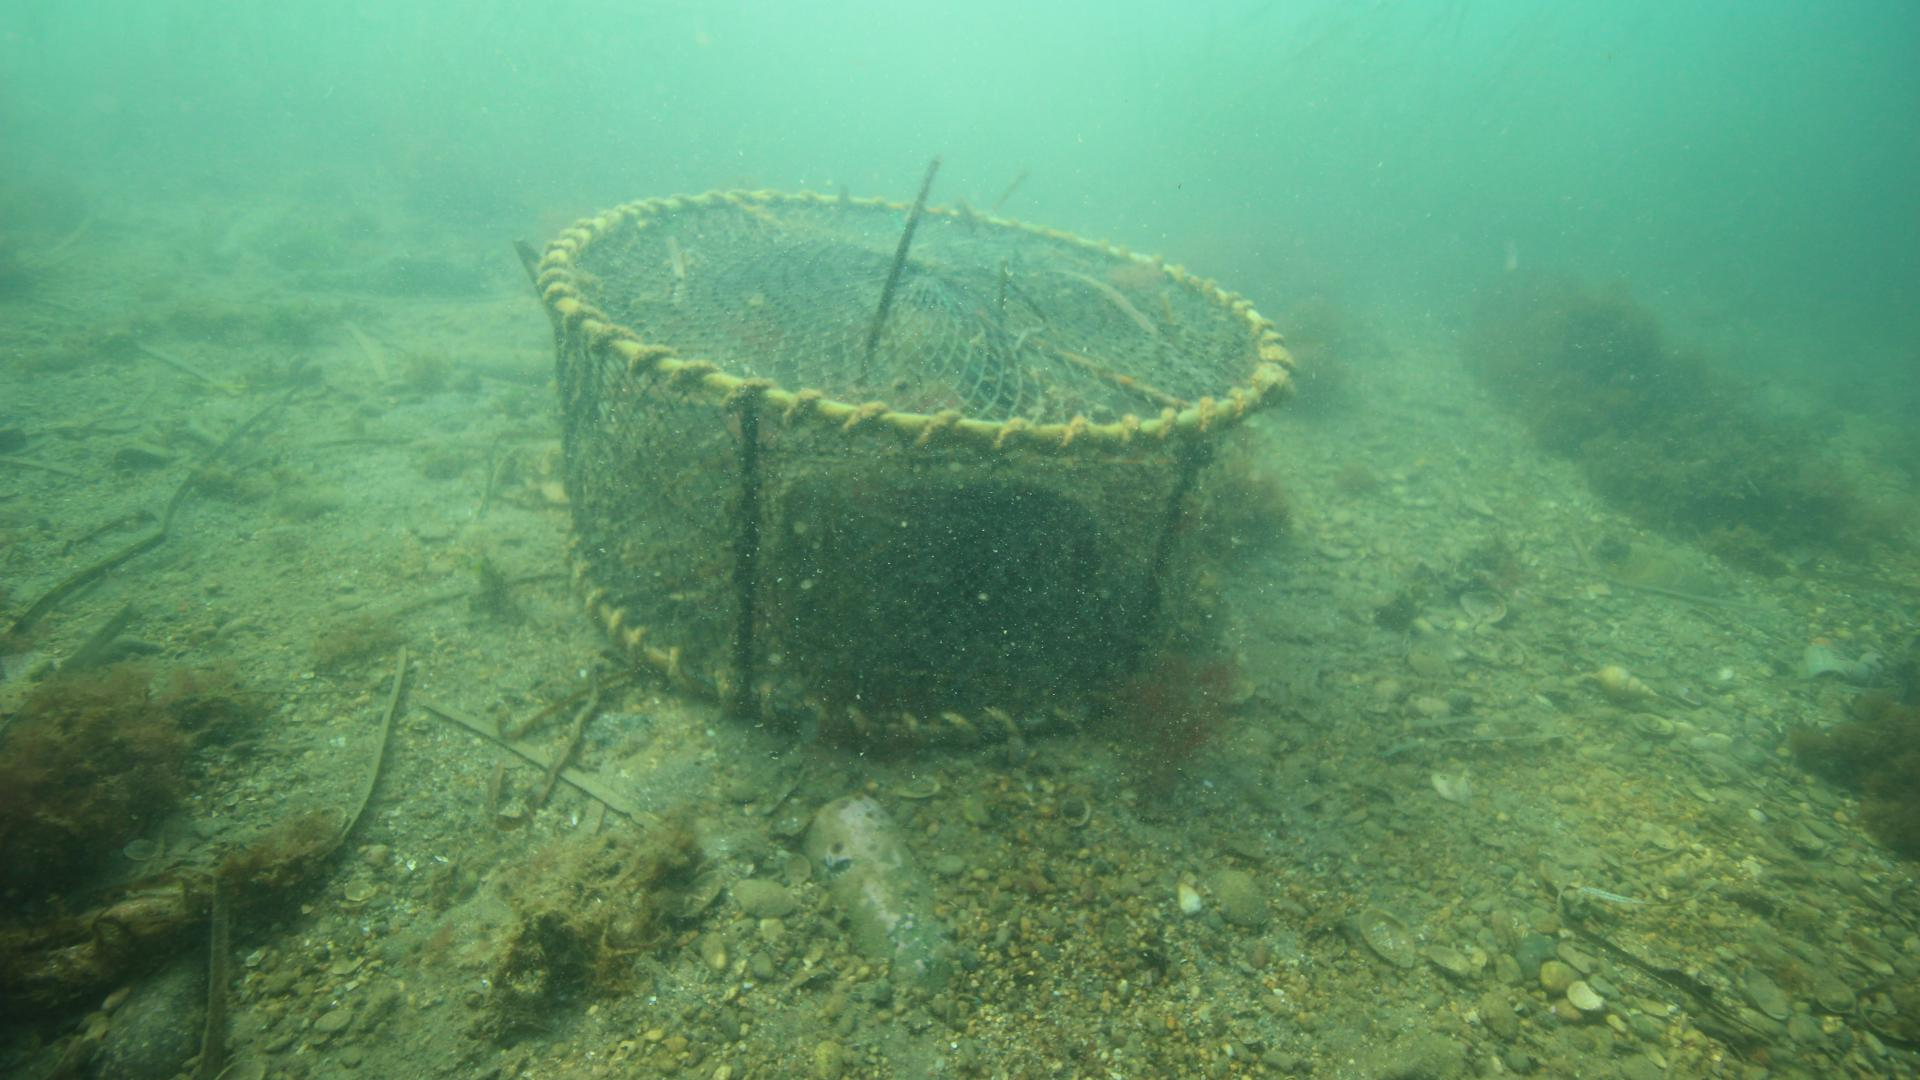circular fish trap: (533, 189, 1296, 754)
